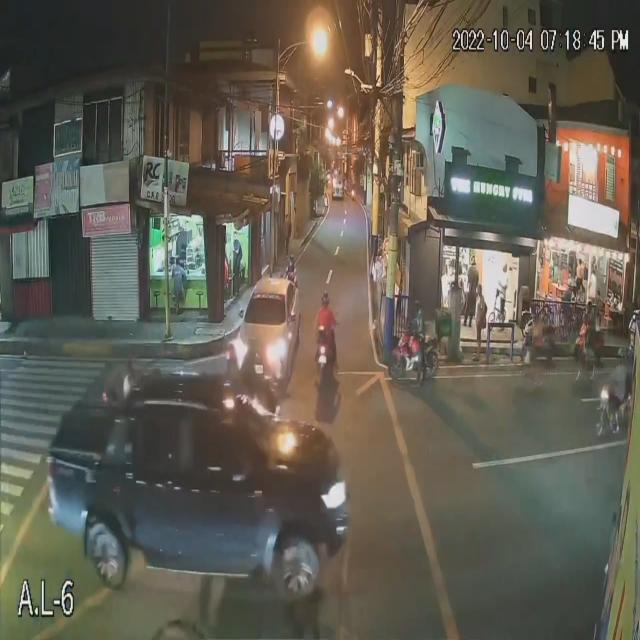Full-Faced: (319, 288, 331, 311), (286, 252, 296, 274)
